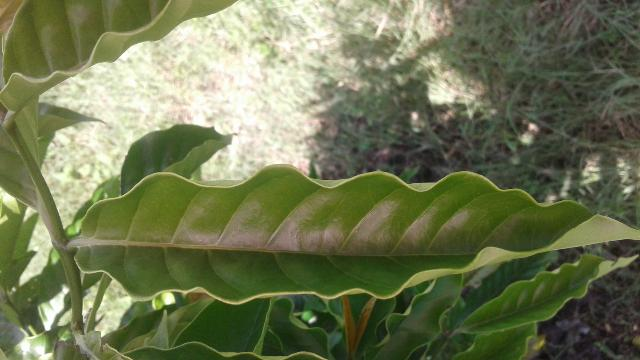healthy: (70, 160, 640, 308)
